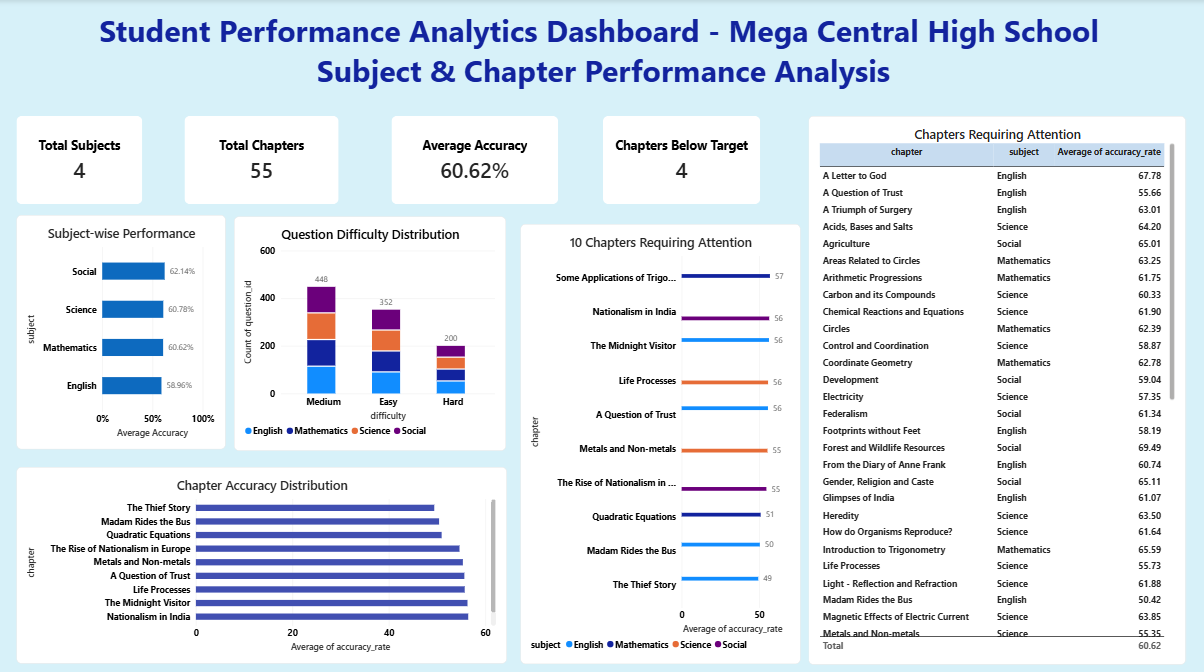

Layout of this report page (visuals, bound fields, positions):
{"tool":"powerbi","page":{"name":"Subject & Chapter Performance Analysis","canvas":[1920,1080],"ordinal":4},"visuals":[{"type":"textbox","box":[10,17.5,1910,147.5],"z":0},{"type":"cardVisual","title":"Total Students","fields":{"Data":["question_bank.Total Subjects"]},"box":[30,185,200,140],"z":1000},{"type":"cardVisual","title":"Total Students","fields":{"Data":["question_bank.Total Chapters"]},"box":[297.5,185,245,140],"z":2000},{"type":"cardVisual","title":"Total Students","fields":{"Data":["chapter_analytics.Average Accuracy"]},"box":[627.5,185,265,140],"z":3000},{"type":"cardVisual","title":"Total Students","fields":{"Data":["chapter_analytics.Weak Chapters"]},"box":[965,185,250,140],"z":4000},{"type":"clusteredBarChart","title":"Subject-wise Performance","fields":{"Category":["chapter_analytics.subject"],"Y":["chapter_analytics.Average Accuracy"]},"box":[30,342.5,332.5,372.5],"z":5000},{"type":"clusteredBarChart","title":"10 Chapters Requiring Attention","fields":{"Category":["chapter_analytics.chapter"],"Series":["chapter_analytics.subject"],"Y":["Avg(chapter_analytics.accuracy_rate)"]},"box":[832.5,357.5,445,700],"z":6000},{"type":"columnChart","title":"Question Difficulty Distribution","fields":{"Category":["question_bank.difficulty"],"Series":["question_bank.subject"],"Y":["CountNonNull(question_bank.question_id)"]},"box":[377.5,345,432.5,372.5],"z":7000},{"type":"barChart","title":"Chapter Accuracy Distribution","fields":{"Category":["chapter_analytics.chapter"],"Y":["Avg(chapter_analytics.accuracy_rate)"]},"box":[30,745,780,312.5],"z":8000},{"type":"tableEx","title":"Chapters Requiring Attention","fields":{"Values":["chapter_analytics.chapter","chapter_analytics.subject","Avg(chapter_analytics.accuracy_rate)"]},"box":[1290,185,600,872.5],"z":9000}]}

Visuals, with their boxes in screenshot pixels (x1, y1, x2, y2), scaled from the page's 1920x1080 canvas onto the 1204x672 screenshot:
textbox: bbox=[6, 11, 1203, 103]
"Total Students" cardVisual: bbox=[19, 115, 144, 202]
"Total Students" cardVisual: bbox=[187, 115, 340, 202]
"Total Students" cardVisual: bbox=[393, 115, 560, 202]
"Total Students" cardVisual: bbox=[605, 115, 762, 202]
"Subject-wise Performance" clusteredBarChart: bbox=[19, 213, 227, 445]
"10 Chapters Requiring Attention" clusteredBarChart: bbox=[522, 222, 801, 658]
"Question Difficulty Distribution" columnChart: bbox=[237, 215, 508, 446]
"Chapter Accuracy Distribution" barChart: bbox=[19, 464, 508, 658]
"Chapters Requiring Attention" tableEx: bbox=[809, 115, 1185, 658]
